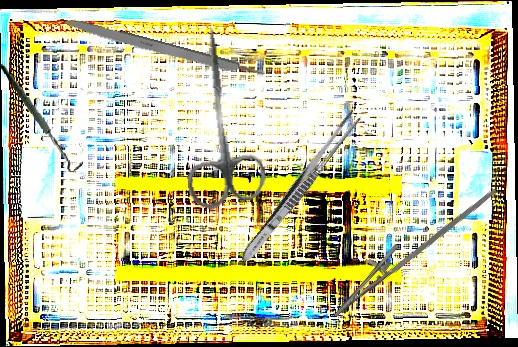Dressing Forceps: (236, 107, 364, 267)
Hook Surgical: (0, 55, 84, 179)
Iris Scissors: (169, 20, 269, 212)
Needle Holder: (322, 160, 498, 335)
Scalpel Handle: (55, 14, 270, 84)
